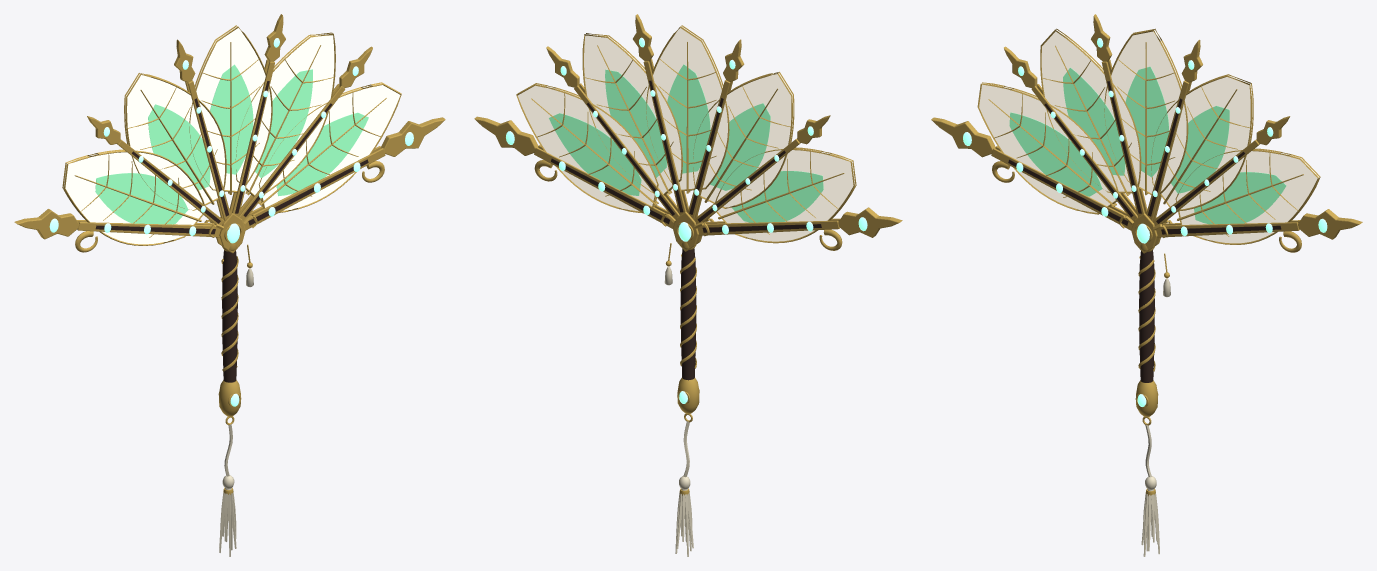
The model's file is wp-fan-fire.glb.
The picture shows the model from 3 angles, left to right: view 1: azimuth 30°, elevation 25°; view 2: azimuth 150°, elevation 25°; view 3: azimuth 330°, elevation 25°; orthographic projection.
Visible parts, largest first — view 1: wp-fan-fire; view 2: wp-fan-fire; view 3: wp-fan-fire.
Part boxes in pixels (x1,y1,x2,y2): wp-fan-fire: (14, 14, 445, 556); wp-fan-fire: (474, 14, 902, 556); wp-fan-fire: (931, 14, 1362, 556).
Size of the model in its own units: 0.7311 by 0.8607 by 0.0417.
